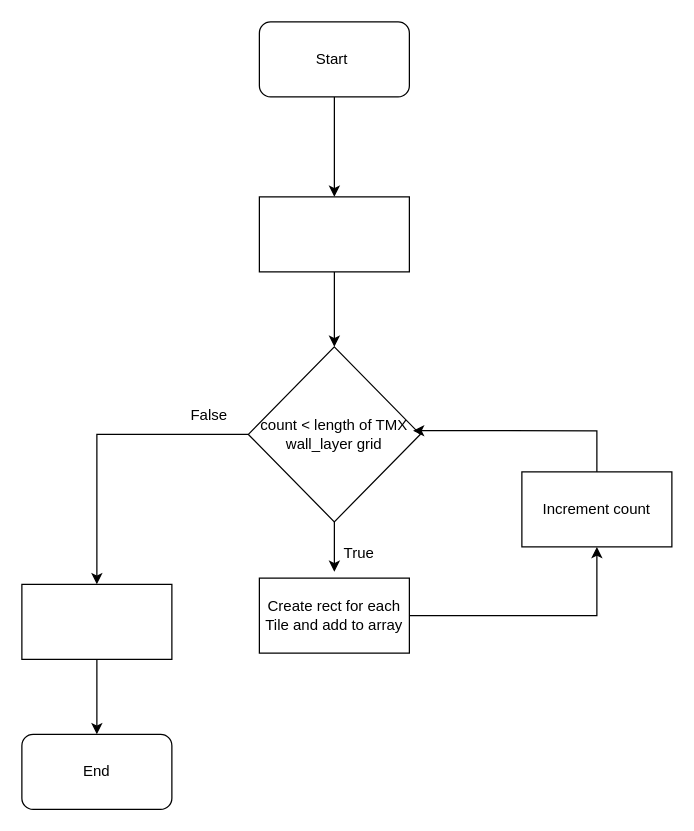
This 694x831 diagram has some shape labels left out. The shapes that lost their labels are listed below. From the top down, each one's centre as x and y in pixels, then its label:
At (x=333, y=234): "Decode TMX data".
At (x=96, y=621): "Return array of rects".
